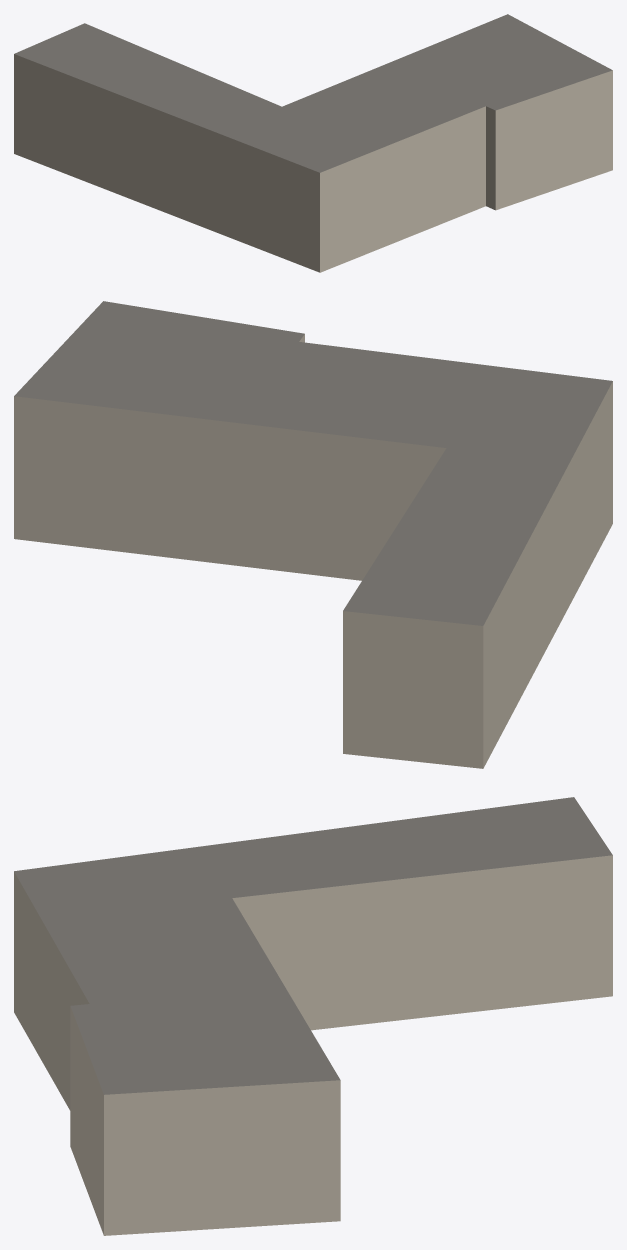
The picture shows the model from 3 angles, top to bottom: view 1: azimuth 30°, elevation 25°; view 2: azimuth 150°, elevation 25°; view 3: azimuth 270°, elevation 25°; orthographic projection. The views are drawn at different scales.
Parts seen in each view (by area): view 1: HP-w178405874; view 2: HP-w178405874; view 3: HP-w178405874.
Boxes of the visible parts, x1=… form: HP-w178405874: x1=14, y1=14, x2=612, y2=272; HP-w178405874: x1=14, y1=301, x2=612, y2=768; HP-w178405874: x1=14, y1=797, x2=612, y2=1235.
Size of the model in its own units: 67.91 by 15 by 57.72.
